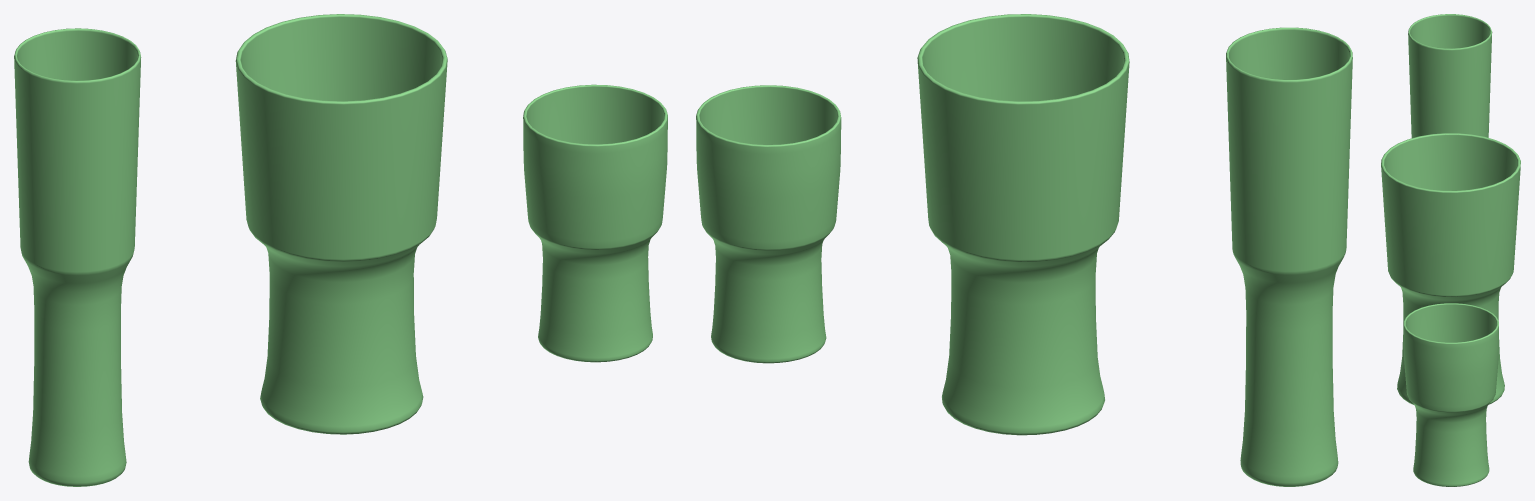
The model's file is Vase01.fbx.
3 views of the same model, side by side, from view 1: azimuth 30°, elevation 25°; view 2: azimuth 150°, elevation 25°; view 3: azimuth 270°, elevation 25° (orthographic). The views are drawn at different scales.
Parts seen in each view (by area): view 1: polySurface435, polySurface434, polySurface436; view 2: polySurface435, polySurface434, polySurface436; view 3: polySurface435, polySurface436, polySurface434.
Boxes of the visible parts, x1=… form: polySurface435: x1=235, y1=14, x2=447, y2=434; polySurface434: x1=14, y1=28, x2=141, y2=486; polySurface436: x1=523, y1=84, x2=667, y2=362; polySurface435: x1=917, y1=14, x2=1129, y2=435; polySurface434: x1=1226, y1=27, x2=1352, y2=486; polySurface436: x1=696, y1=85, x2=841, y2=363; polySurface435: x1=1381, y1=133, x2=1520, y2=404; polySurface436: x1=1403, y1=303, x2=1498, y2=486; polySurface434: x1=1408, y1=14, x2=1492, y2=138.
Bounding box in the file's own units: 0.5602 × 0.3476 × 0.1611.
